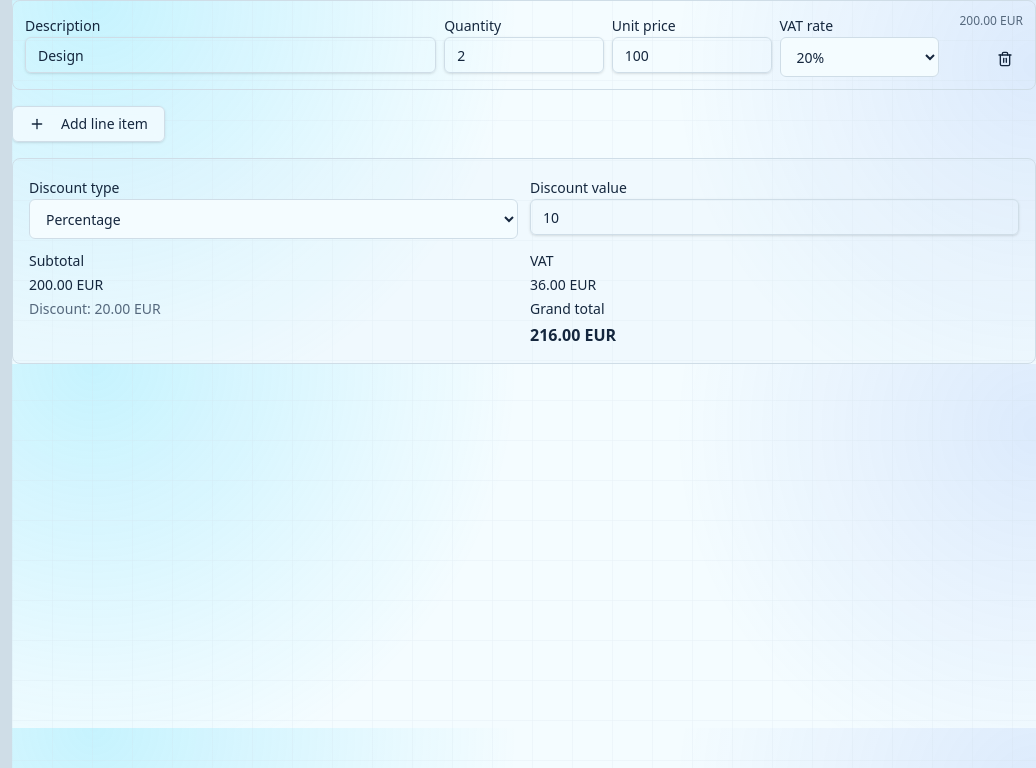
LineItemsEditor › adds and removes rows
This screenshot has width=1036, height=768.
Expected: the number of fields labelled "Description" is 1, x1=25 y1=37 x2=436 y2=73
Click the button "Add line item": (88, 124) x1=12 y1=106 x2=165 y2=142
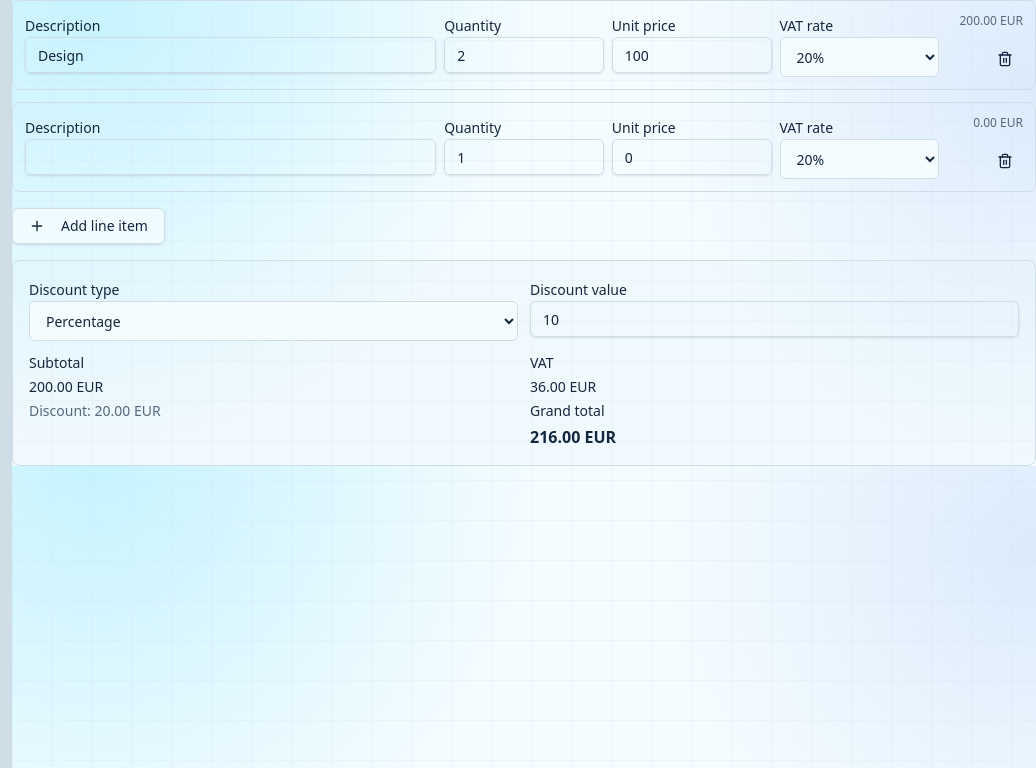
Expected: the number of fields labelled "Description" is 2, x1=25 y1=37 x2=436 y2=73; x1=25 y1=139 x2=436 y2=175
Click the button named "Remove line item 2": (1005, 161) x1=987 y1=143 x2=1023 y2=179
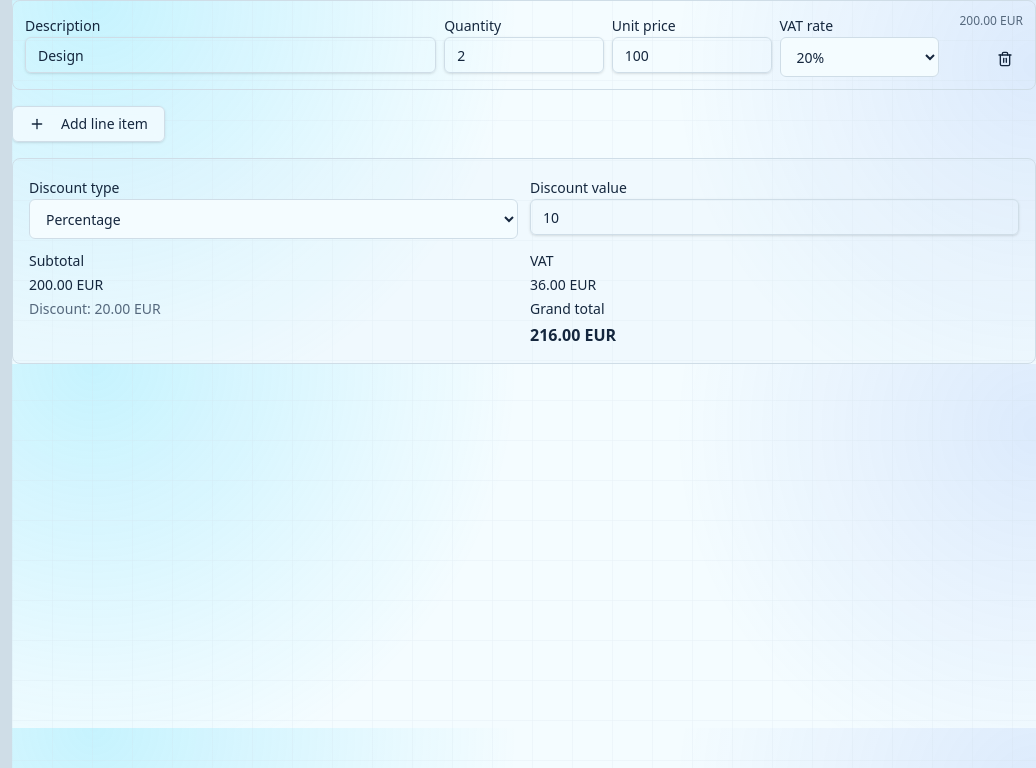
Expected: the number of fields labelled "Description" is 1, x1=25 y1=37 x2=436 y2=73
